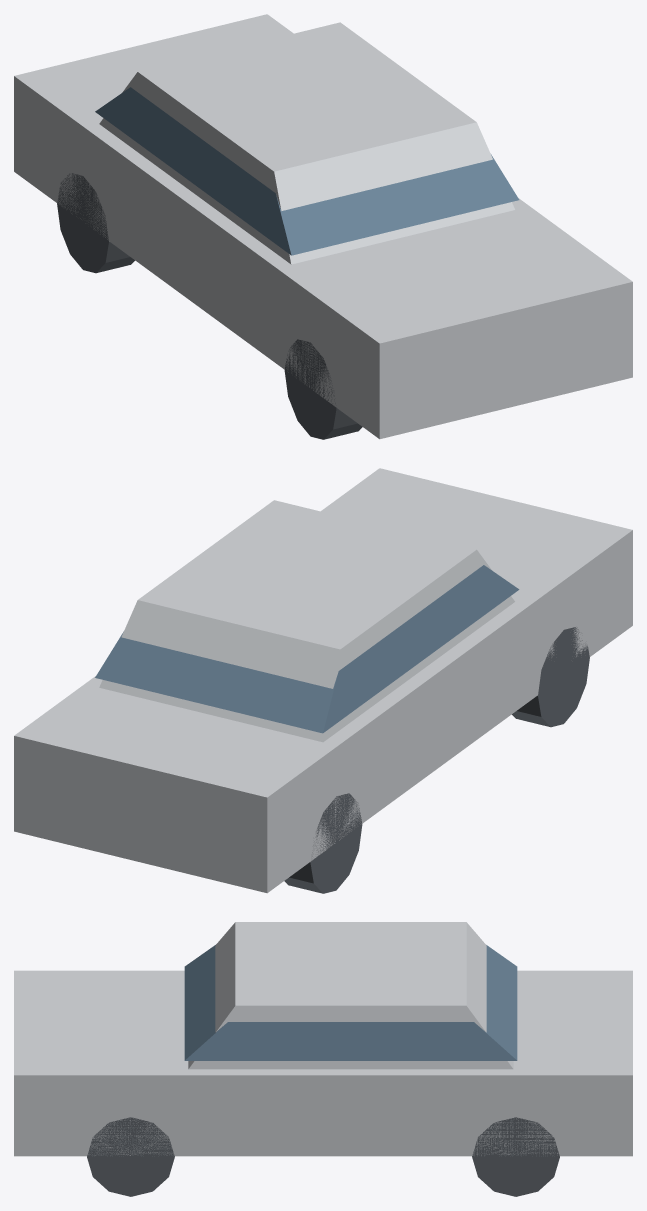
The model's file is synth_car.glb.
The picture shows the model from 3 angles, top to bottom: view 1: azimuth 30°, elevation 25°; view 2: azimuth 150°, elevation 25°; view 3: azimuth 270°, elevation 25°; orthographic projection. The views are drawn at different scales.
Size of the model in its own units: 1.8 by 1.45 by 4.5.
